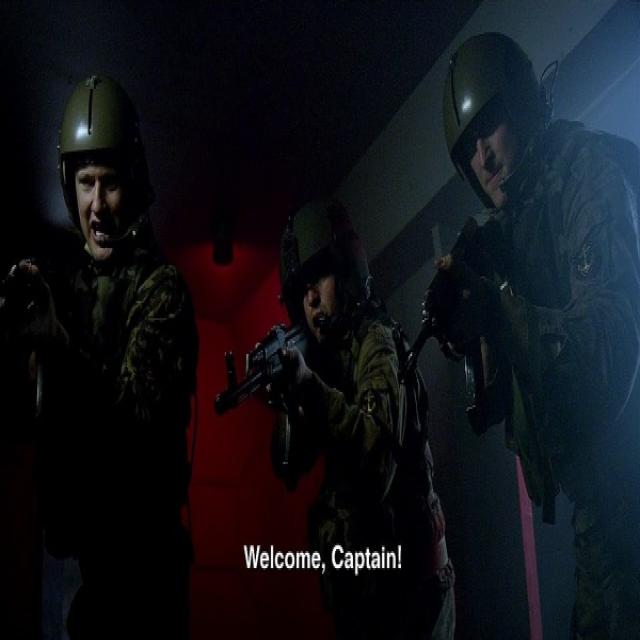rifle: (396, 210, 522, 402), (214, 315, 313, 431)
